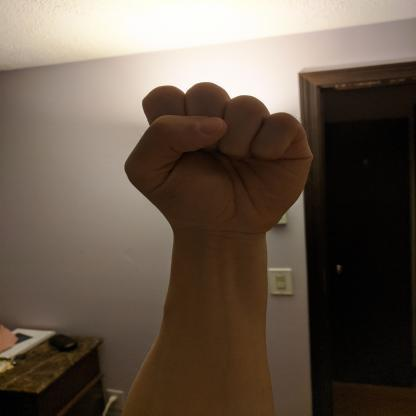S: (119, 77, 317, 238)
